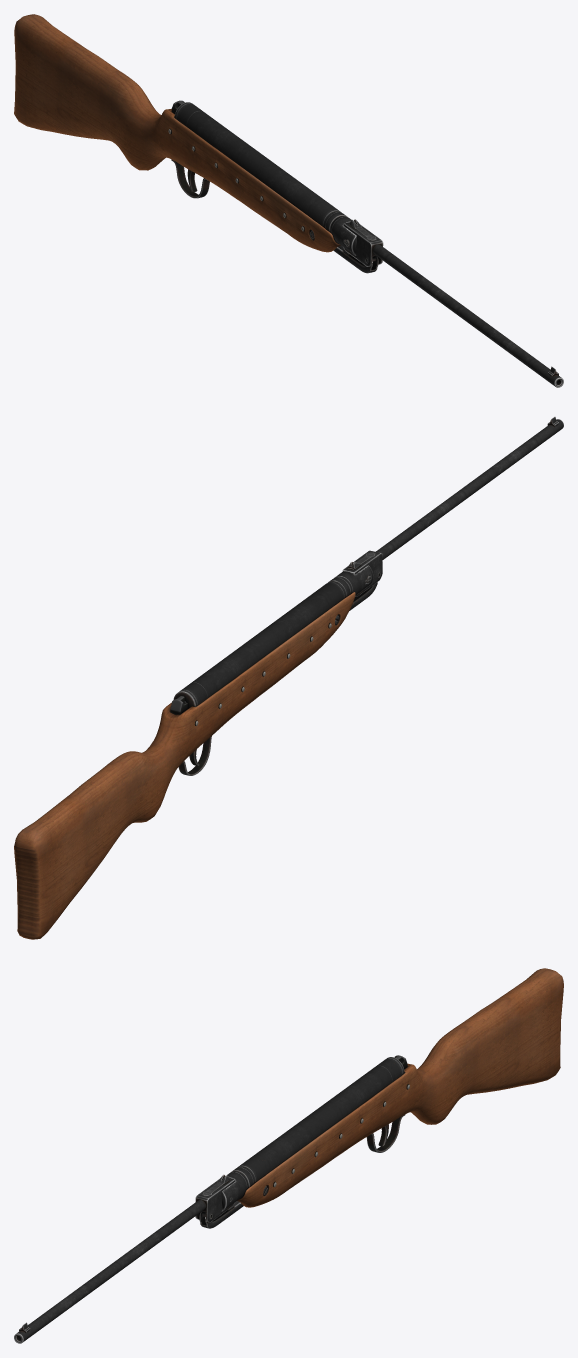
File: AirGun.obj
3 renders of one model, top to bottom at view 1: azimuth 30°, elevation 25°; view 2: azimuth 150°, elevation 25°; view 3: azimuth 330°, elevation 25°, orthographic.
Visible parts, largest first — view 1: Air_Gun_Grif.001; view 2: Air_Gun_Grif.001; view 3: Air_Gun_Grif.001.
Boxes of the visible parts, <box> form: Air_Gun_Grif.001: <box>14,14,563,387</box>; Air_Gun_Grif.001: <box>14,416,563,939</box>; Air_Gun_Grif.001: <box>14,968,563,1343</box>.
Bounding box in the file's own units: 0.0451 × 0.2022 × 1.42.
